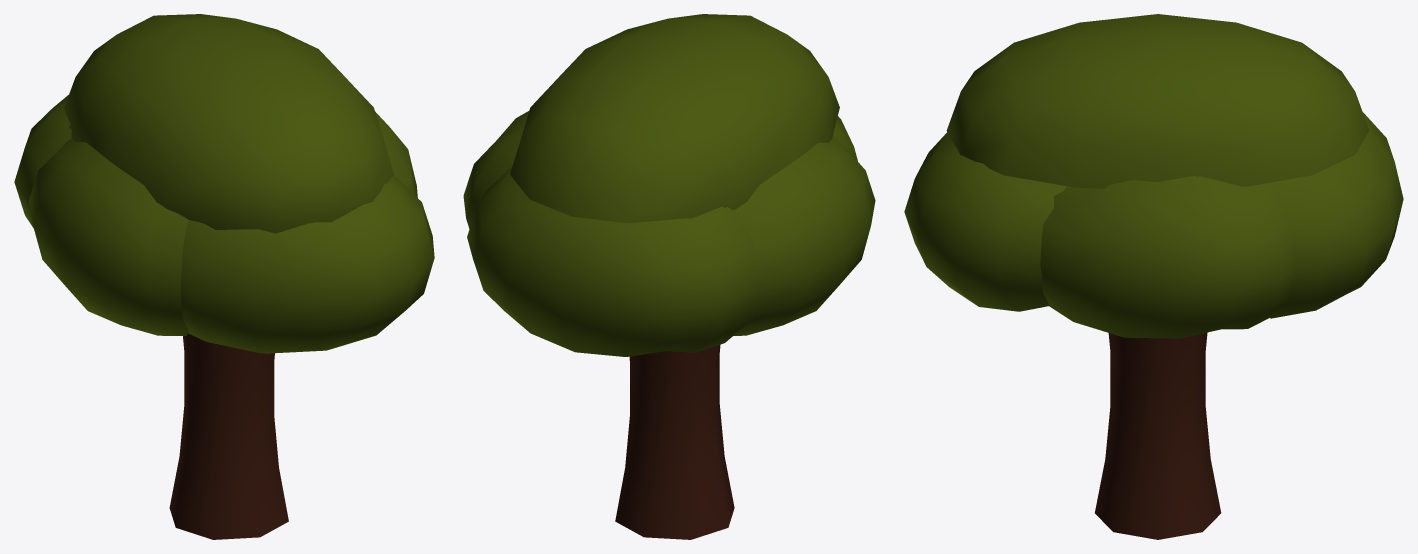
Rendered from Arbre1.fbx.
3 views of the same model, side by side, from view 1: azimuth 30°, elevation 25°; view 2: azimuth 150°, elevation 25°; view 3: azimuth 270°, elevation 25° (orthographic). The views are drawn at different scales.
Visible parts, largest first — view 1: Arbre1; view 2: Arbre1; view 3: Arbre1.
Part boxes in pixels (bbox=[...]): Arbre1: bbox=[14, 14, 434, 539]; Arbre1: bbox=[463, 14, 875, 539]; Arbre1: bbox=[904, 14, 1403, 539].
Size of the model in its own units: 282 by 362 by 341.
